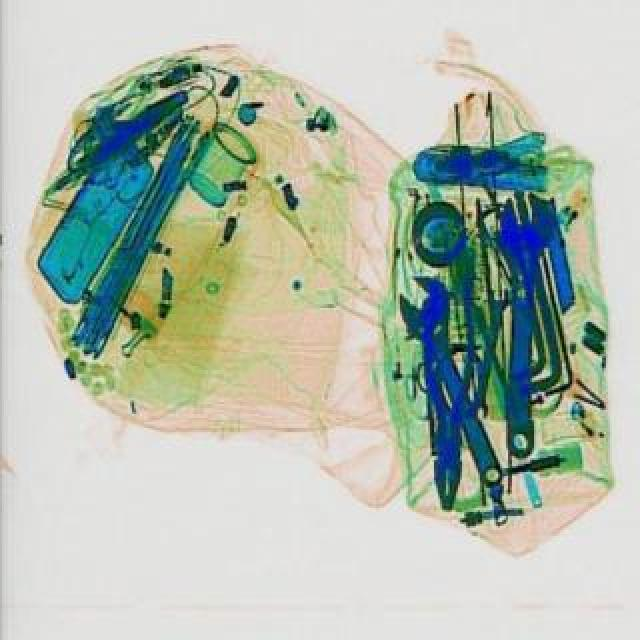scissors: (386, 266, 526, 494), (490, 190, 558, 460)
wrench: (420, 274, 472, 510)
